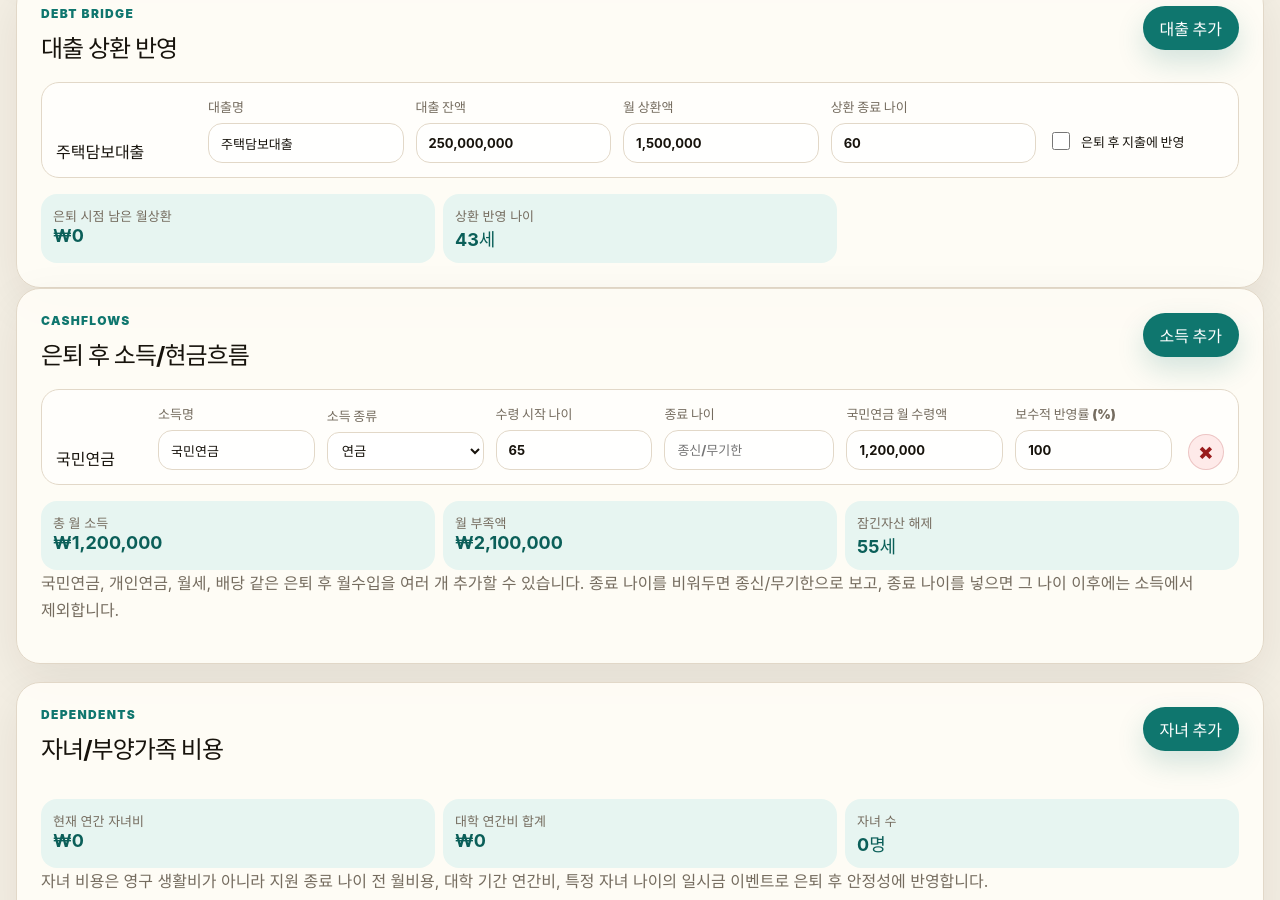
Scenario: EconomicFreedomSimulator app › models pension cashflow and assets locked until age 55
The image size is (1280, 900).
(page scrolled)
Expected: the heading "은퇴 후 소득/현금흐름" is shown, [41,336,249,371]
Expected: the text "국민연금" is shown, [56,449,115,469]
Replace the text in the field labelled "국민연금 월 수령액" with "1,500,000": [925, 450] box [846,430,1003,470]
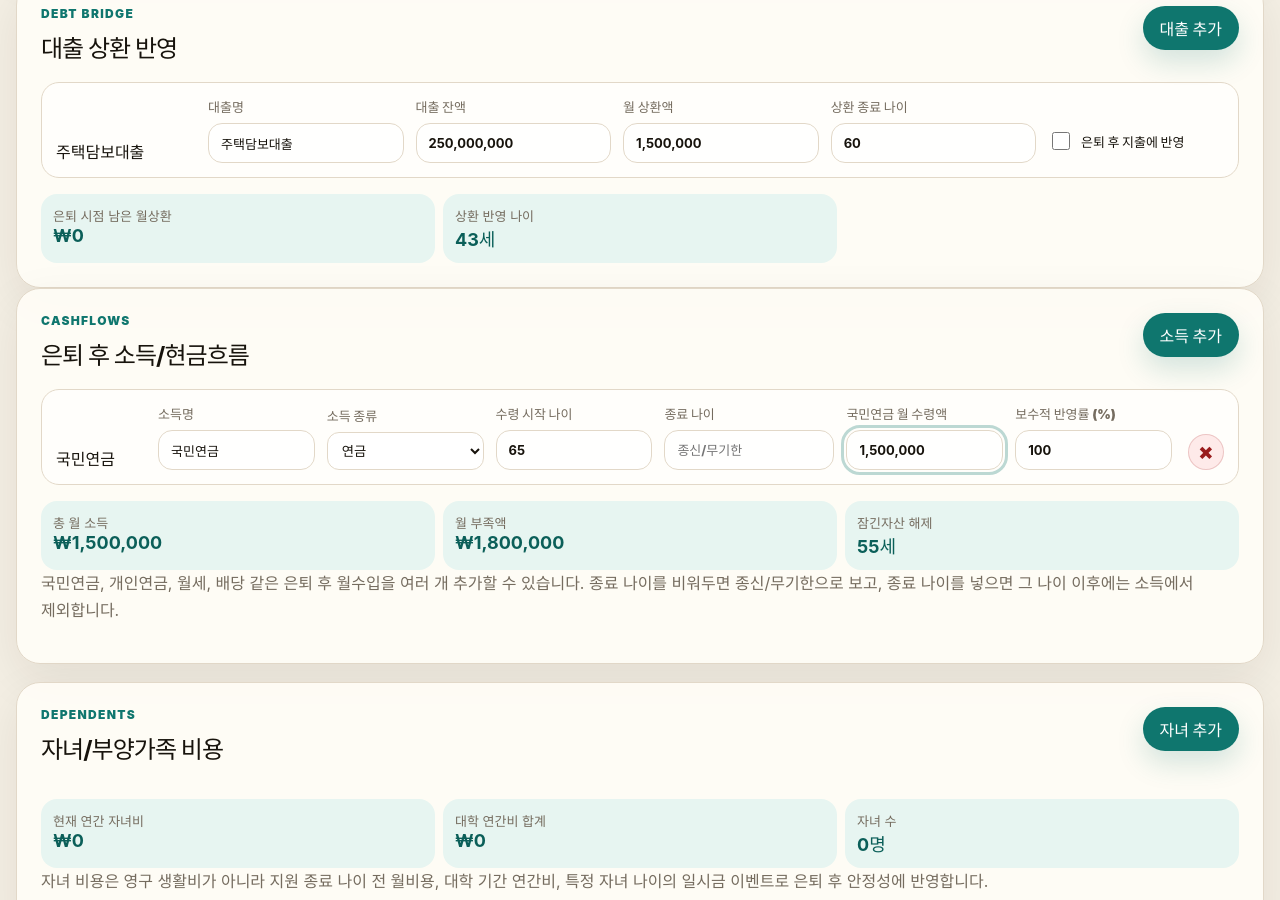
Expected: the text "총 월 소득" is shown, [53,515,108,531]
Now the text "₩1,500,000" is shown, box [53,532,162,553]
Now the text "₩1,800,000" is shown, box [455,532,564,553]
